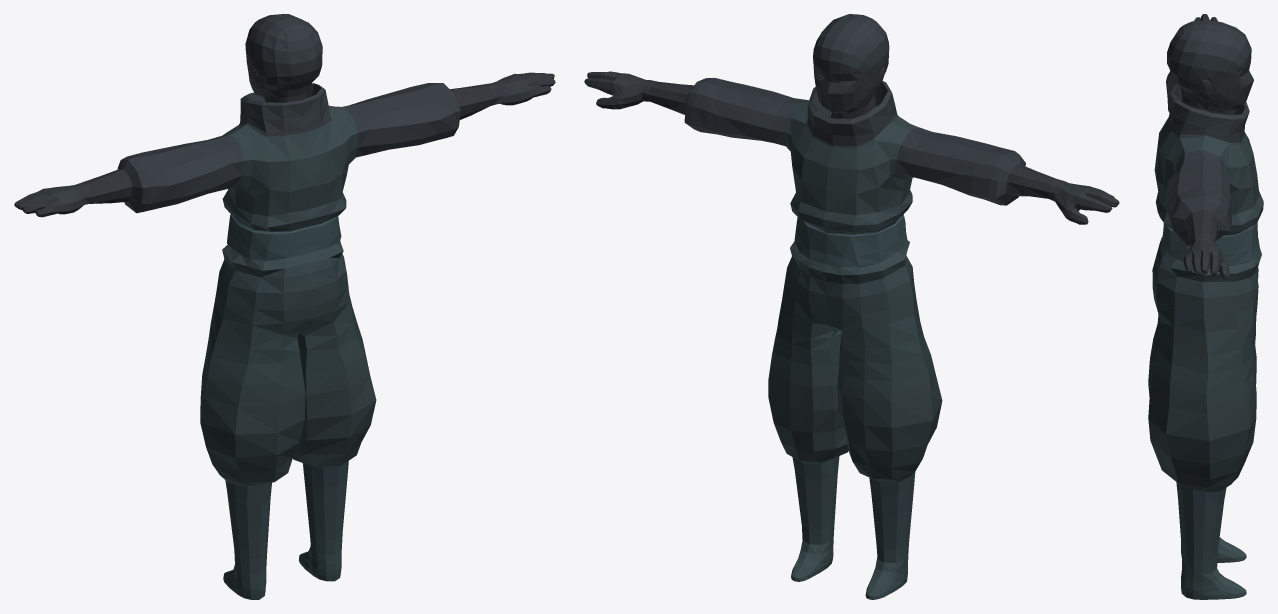
Rendered from NPC_MusicianBody.glb.
3 renders of one model, left to right at view 1: azimuth 30°, elevation 25°; view 2: azimuth 150°, elevation 25°; view 3: azimuth 270°, elevation 25°, orthographic.
Parts seen in each view (by area): view 1: NPC_MusicianBody; view 2: NPC_MusicianBody; view 3: NPC_MusicianBody.
Boxes of the visible parts, left/top/right/bottom form: NPC_MusicianBody: left=14, top=14, right=555, bottom=599; NPC_MusicianBody: left=584, top=14, right=1119, bottom=599; NPC_MusicianBody: left=1148, top=14, right=1263, bottom=599.
Bounding box in the file's own units: 14.03 × 14.1 × 2.67.
1 material, 1 textured.
